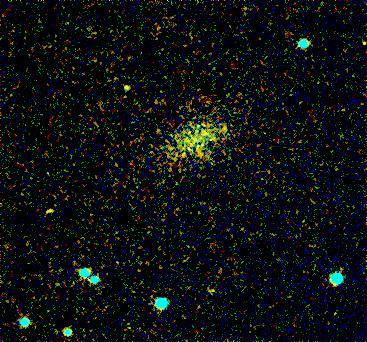star: (107, 73, 137, 103)
